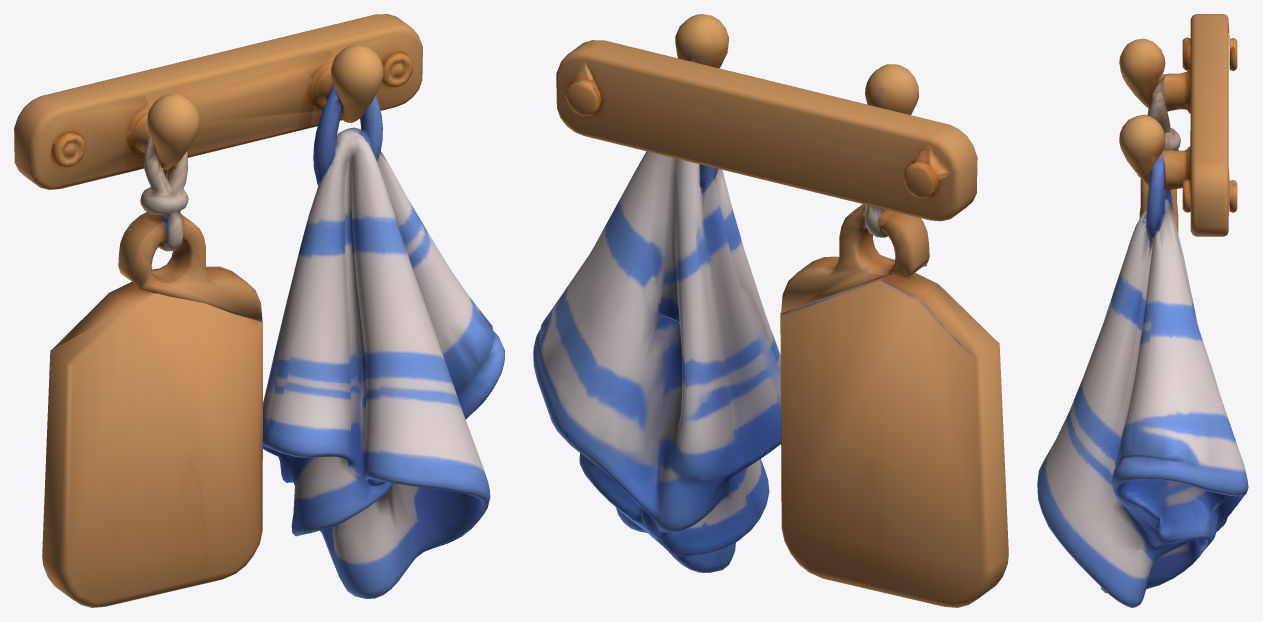
File: board-cloth.glb
3 views of the same model, side by side, from view 1: azimuth 30°, elevation 25°; view 2: azimuth 150°, elevation 25°; view 3: azimuth 270°, elevation 25° (orthographic). The views are drawn at different scales.
Visible parts, largest first — view 1: board_cloth_mesh; view 2: board_cloth_mesh; view 3: board_cloth_mesh.
Boxes of the visible parts, x1,y1,x2,y2 form: board_cloth_mesh: (14, 14, 504, 607); board_cloth_mesh: (533, 14, 1008, 607); board_cloth_mesh: (1037, 14, 1248, 607).
Size of the model in its own units: 0.429 by 0.5 by 0.1999.
1 material, 1 textured.
